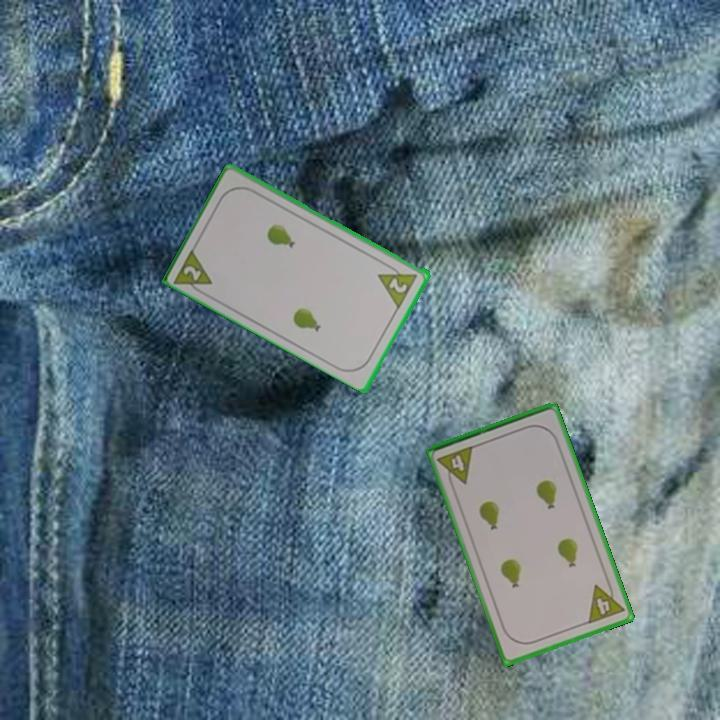2p: (171, 244, 216, 299), (375, 259, 421, 310)
4p: (584, 577, 627, 627), (434, 442, 477, 490)
